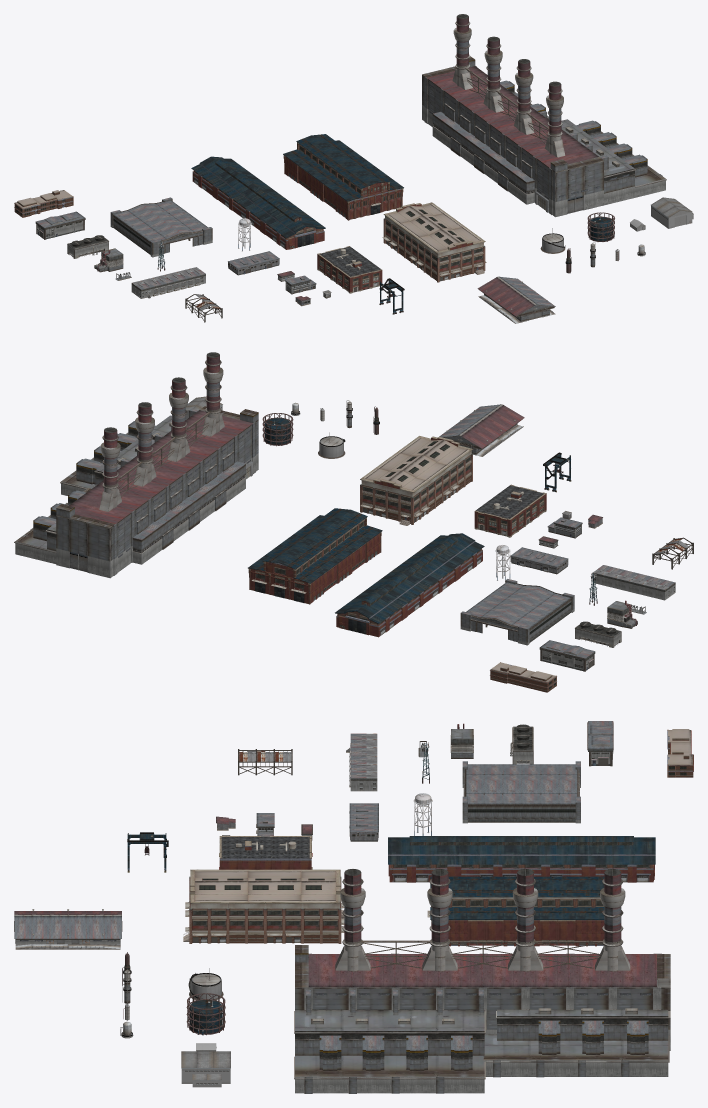
File: sf-indset.glb
3 views of the same model, one above another, from view 1: azimuth 30°, elevation 25°; view 2: azimuth 150°, elevation 25°; view 3: azimuth 270°, elevation 25° (orthographic). The views are drawn at different scales.
Parts seen in each view (by area): view 1: Industrial_Powerplant_1_Industrial_Walls_FLR_1_0, Industrial_Building_10_Material #2_0, Industrial_FactoryPlant_2_Industrial_Walls_FLR_2_Dif_0, Industrial_Hangar_2_Industrial_Walls_FLR_1_0, Industrial_FactoryPlant_1_Industrial_Walls_FLR_2_0, Industrial_FactoryPlant_1_Industrial_Facade_Flr_1_0, Industrial_FactoryPlant_2_Industrial_Facade_Flr_1_0, Industrial_Warehouse_5_Industrial_Walls_FLR_1_0, Industrial_Building_1_Industrial_Facade_Flr_1_0, Industrial_LogisticTerminal_1_Industrial_Walls_FLR_1_0, Industrial_Warehouse_4_Industrial_Facade_Flr_1_0, Industrial_Warehouse_1_Industrial_Walls_FLR_1_0 (+9 smaller); view 2: Industrial_Powerplant_1_Industrial_Walls_FLR_1_0, Industrial_Building_10_Material #2_0, Industrial_FactoryPlant_2_Industrial_Walls_FLR_2_Dif_0, Industrial_FactoryPlant_1_Industrial_Walls_FLR_2_0, Industrial_Hangar_2_Industrial_Walls_FLR_1_0, Industrial_FactoryPlant_1_Industrial_Facade_Flr_1_0, Industrial_FactoryPlant_2_Industrial_Facade_Flr_1_0, Industrial_Warehouse_5_Industrial_Walls_FLR_1_0, Industrial_Building_1_Industrial_Facade_Flr_1_0, Industrial_LogisticTerminal_1_Industrial_Walls_FLR_1_0, Industrial_Warehouse_4_Industrial_Facade_Flr_1_0, Industrial_Warehouse_1_Industrial_Walls_FLR_1_0 (+6 smaller); view 3: Industrial_Powerplant_1_Industrial_Walls_FLR_1_0, Industrial_Building_10_Material #2_0, Industrial_Hangar_2_Industrial_Walls_FLR_1_0, Industrial_FactoryPlant_2_Industrial_Walls_FLR_2_Dif_0, Industrial_FactoryPlant_2_Industrial_Facade_Flr_1_0, Industrial_FactoryPlant_1_Industrial_Facade_Flr_1_0, Industrial_FactoryPlant_1_Industrial_Walls_FLR_2_0, Industrial_Warehouse_5_Industrial_Walls_FLR_1_0, Industrial_Building_1_Industrial_Roof_1_0, Industrial_Building_1_Industrial_Facade_Flr_1_0, Industrial_LogisticTerminal_1_Industrial_Walls_FLR_1_0, Industrial_Tank_2_Industrial_Walls_FLR_2_0 (+11 smaller).
Boxes of the visible parts, <box> form: Industrial_Powerplant_1_Industrial_Walls_FLR_1_0: <box>422,14,666,217</box>; Industrial_Building_10_Material #2_0: <box>382,202,486,282</box>; Industrial_FactoryPlant_2_Industrial_Walls_FLR_2_Dif_0: <box>191,156,325,247</box>; Industrial_Hangar_2_Industrial_Walls_FLR_1_0: <box>110,197,212,257</box>; Industrial_FactoryPlant_1_Industrial_Walls_FLR_2_0: <box>283,134,403,214</box>; Industrial_FactoryPlant_1_Industrial_Facade_Flr_1_0: <box>283,142,403,220</box>; Industrial_FactoryPlant_2_Industrial_Facade_Flr_1_0: <box>192,162,324,249</box>; Industrial_Warehouse_5_Industrial_Walls_FLR_1_0: <box>477,276,555,321</box>; Industrial_Building_1_Industrial_Facade_Flr_1_0: <box>317,246,382,293</box>; Industrial_LogisticTerminal_1_Industrial_Walls_FLR_1_0: <box>131,267,205,298</box>; Industrial_Warehouse_4_Industrial_Facade_Flr_1_0: <box>14,190,73,217</box>; Industrial_Warehouse_1_Industrial_Walls_FLR_1_0: <box>35,211,85,239</box>; Industrial_Powerplant_1_Industrial_Walls_FLR_1_0: <box>14,352,258,578</box>; Industrial_Building_10_Material #2_0: <box>360,436,473,525</box>; Industrial_FactoryPlant_2_Industrial_Walls_FLR_2_Dif_0: <box>335,533,484,634</box>; Industrial_FactoryPlant_1_Industrial_Walls_FLR_2_0: <box>248,508,382,602</box>; Industrial_Hangar_2_Industrial_Walls_FLR_1_0: <box>460,579,574,645</box>; Industrial_FactoryPlant_1_Industrial_Facade_Flr_1_0: <box>248,517,381,604</box>; Industrial_FactoryPlant_2_Industrial_Facade_Flr_1_0: <box>336,540,482,637</box>; Industrial_Warehouse_5_Industrial_Walls_FLR_1_0: <box>438,404,524,454</box>; Industrial_Building_1_Industrial_Facade_Flr_1_0: <box>474,484,546,537</box>; Industrial_LogisticTerminal_1_Industrial_Walls_FLR_1_0: <box>592,565,675,600</box>; Industrial_Warehouse_4_Industrial_Facade_Flr_1_0: <box>490,662,556,692</box>; Industrial_Warehouse_1_Industrial_Walls_FLR_1_0: <box>539,640,595,671</box>; Industrial_Powerplant_1_Industrial_Walls_FLR_1_0: <box>294,868,670,1093</box>; Industrial_Building_10_Material #2_0: <box>183,869,344,943</box>; Industrial_Hangar_2_Industrial_Walls_FLR_1_0: <box>462,761,580,823</box>; Industrial_FactoryPlant_2_Industrial_Walls_FLR_2_Dif_0: <box>388,836,655,864</box>; Industrial_FactoryPlant_2_Industrial_Facade_Flr_1_0: <box>388,842,655,882</box>; Industrial_FactoryPlant_1_Industrial_Facade_Flr_1_0: <box>427,897,604,946</box>; Industrial_FactoryPlant_1_Industrial_Walls_FLR_2_0: <box>430,876,604,919</box>; Industrial_Warehouse_5_Industrial_Walls_FLR_1_0: <box>14,909,122,947</box>; Industrial_Building_1_Industrial_Roof_1_0: <box>221,837,309,858</box>; Industrial_Building_1_Industrial_Facade_Flr_1_0: <box>219,836,312,869</box>; Industrial_LogisticTerminal_1_Industrial_Walls_FLR_1_0: <box>350,733,377,791</box>; Industrial_Tank_2_Industrial_Walls_FLR_2_0: <box>186,993,225,1035</box>.
Bounding box in the file's own units: 427 × 90.62 × 345.
13 materials, 13 textured.
